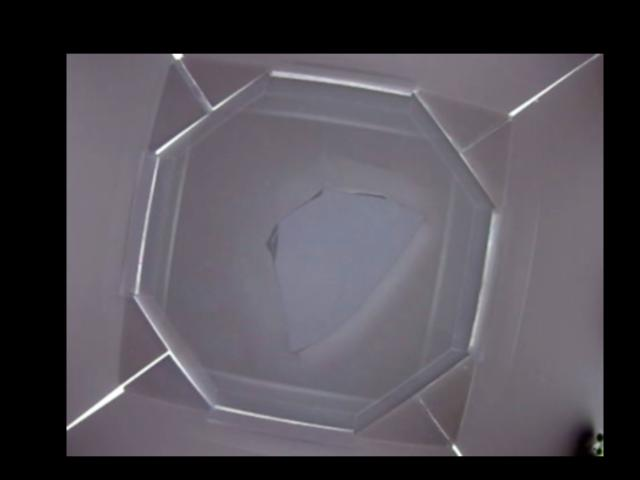China: (264, 182, 413, 359)
